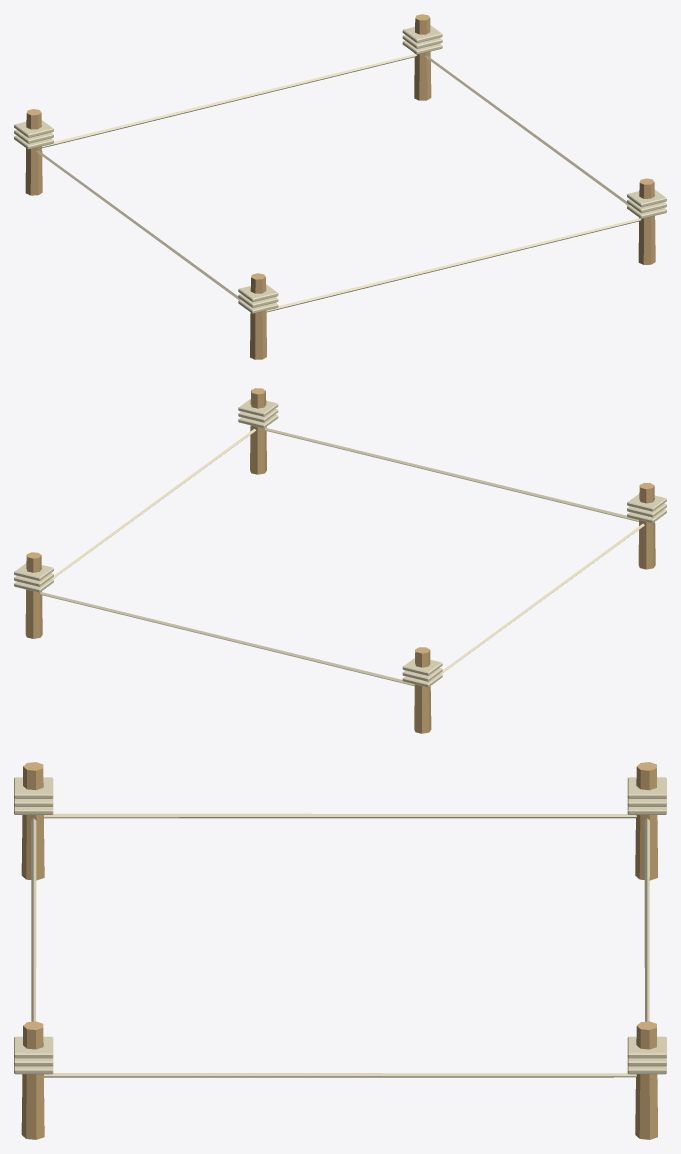
The model's file is CC_ConstructionPlan.fbx.
3 views of the same model, one above another, from view 1: azimuth 30°, elevation 25°; view 2: azimuth 150°, elevation 25°; view 3: azimuth 270°, elevation 25° (orthographic). The views are drawn at different scales.
Parts seen in each view (by area): view 1: String.003, String.002, Survey stake.002, Survey stake.001, Survey stake.003, Survey stake, String, String.001; view 2: String.002, String.003, Survey stake.001, Survey stake.003, Survey stake, Survey stake.002, String, String.001; view 3: String, String.001, Survey stake.002, Survey stake.003, Survey stake, Survey stake.001, String.003, String.002, Fiber binding.038, Fiber binding.041, Fiber binding.032, Fiber binding.035.
Boxes of the visible parts, box(x1,y1,x2,y2) form: String.003: box(42, 54, 416, 148); String.002: box(266, 218, 641, 312); Survey stake.002: box(638, 178, 655, 264); Survey stake.001: box(25, 109, 42, 195); Survey stake.003: box(414, 14, 431, 100); Survey stake: box(250, 273, 266, 359); String: box(36, 150, 240, 300); String.001: box(425, 55, 629, 205); String.002: box(264, 427, 638, 521); String.003: box(40, 592, 414, 686); Survey stake.001: box(414, 647, 431, 733); Survey stake.003: box(25, 552, 42, 638); Survey stake: box(638, 483, 655, 569); Survey stake.002: box(250, 388, 266, 474); String: box(440, 523, 644, 673); String.001: box(51, 428, 255, 578); String: box(44, 813, 636, 818); String.001: box(44, 1073, 636, 1077); Survey stake.002: box(21, 1021, 44, 1139); Survey stake.003: box(635, 1021, 657, 1139); Survey stake: box(21, 762, 44, 880); Survey stake.001: box(635, 762, 657, 880); String.003: box(644, 818, 649, 1021); String.002: box(31, 818, 36, 1021); Fiber binding.038: box(14, 1036, 53, 1058); Fiber binding.041: box(627, 1036, 666, 1058); Fiber binding.032: box(14, 777, 53, 798); Fiber binding.035: box(627, 777, 666, 798).
Size of the model in its own units: 4.48 by 0.825 by 4.47.
